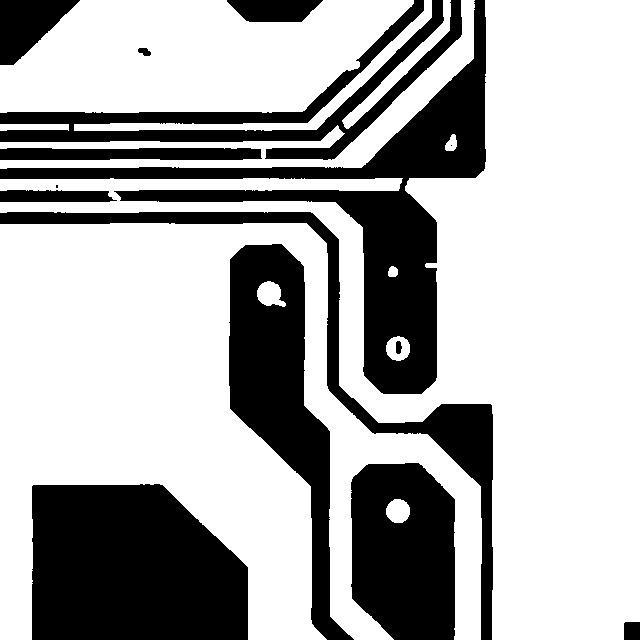copper: (128, 38, 160, 65), (386, 331, 411, 363)
mousebite: (337, 51, 369, 80), (415, 253, 451, 277), (264, 290, 295, 316)
open: (98, 176, 130, 210), (251, 136, 275, 168)
pin-hole: (435, 124, 466, 160), (378, 256, 407, 286)
short: (388, 166, 418, 206), (328, 111, 361, 145), (59, 107, 83, 144)
